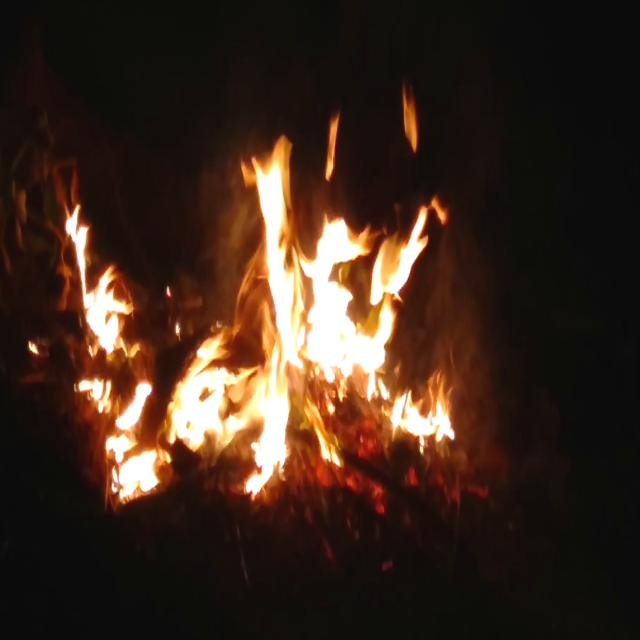firerotation: (64, 88, 456, 500)
